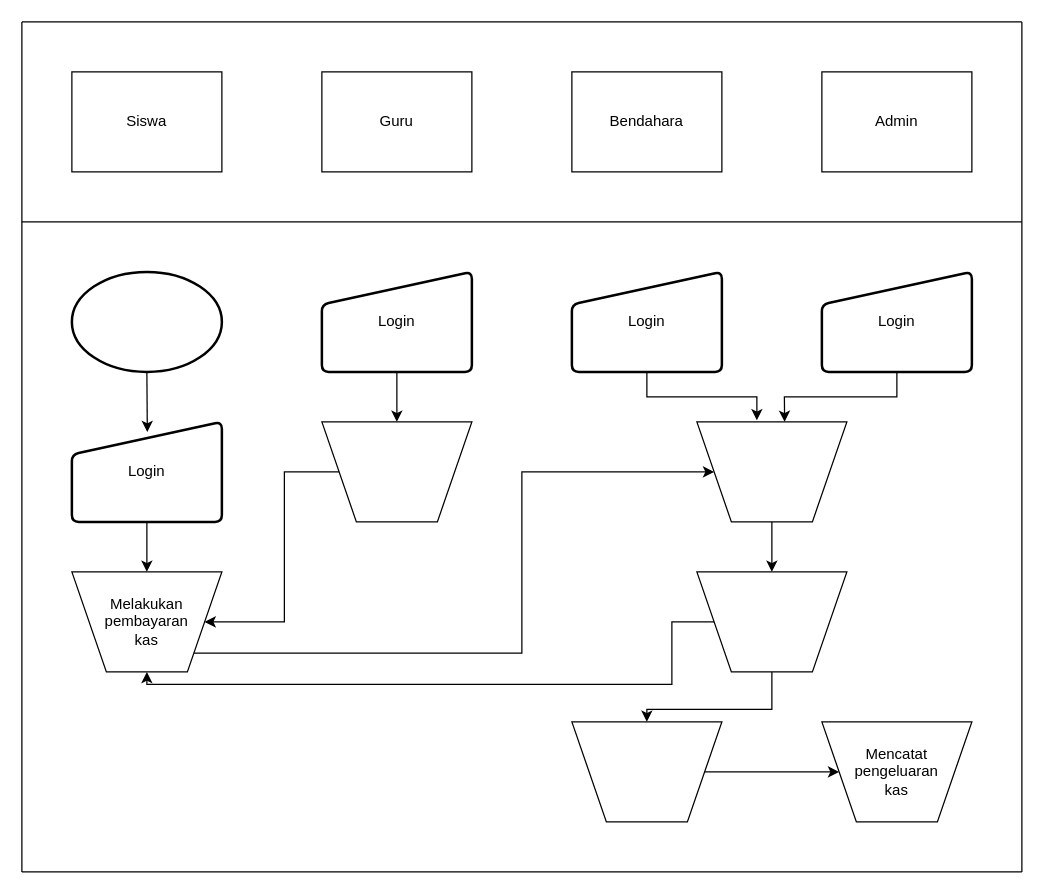
Some shapes in this 1045 by 895 pixel diagram are drawn without their labels. Each missing label, with the box of its shape:
Melakukan pembelian keperluan sekolah: (571, 721, 722, 822)
Memantau arus kas yang masuk dan keluar: (696, 421, 847, 522)
Memantau siswa dalam pembayaran kas: (321, 421, 472, 522)
Menentukan jumlah pembayaran kas per minggu: (696, 571, 847, 672)
Start: (70, 270, 222, 372)
